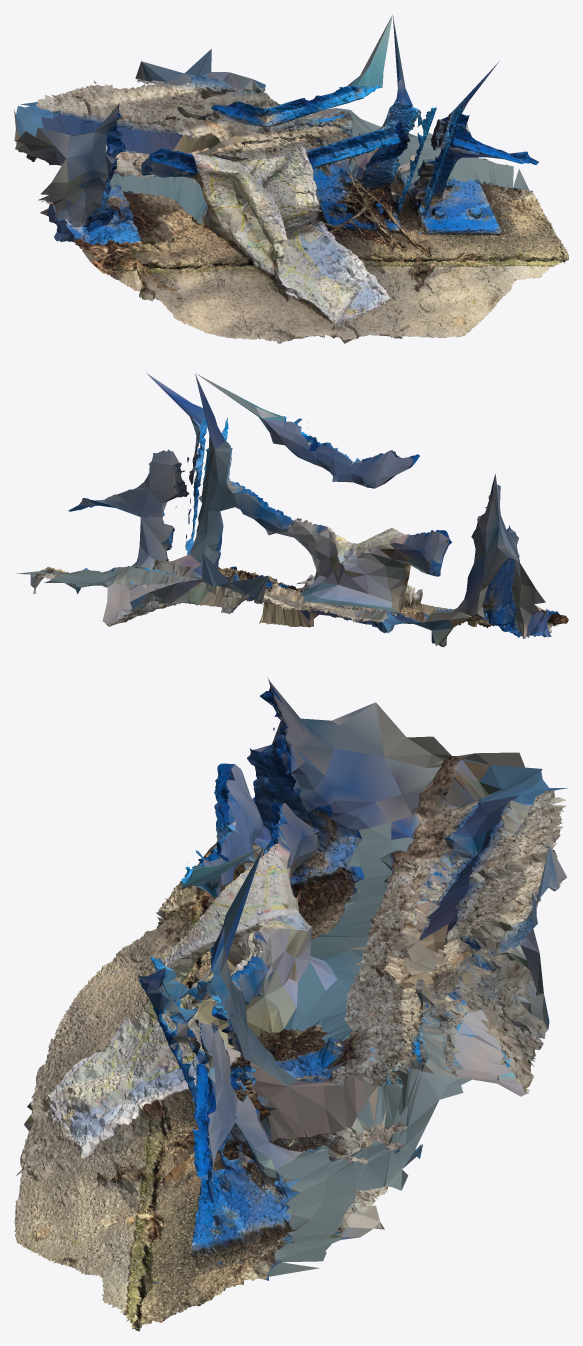
File: 03_mapa2.glb
3 views of the same model, one above another, from view 1: azimuth 30°, elevation 25°; view 2: azimuth 150°, elevation 25°; view 3: azimuth 270°, elevation 25° (orthographic). The views are drawn at different scales.
Parts seen in each view (by area): view 1: mapa2.002, mapa2.003, mapa2.001; view 2: mapa2.002, mapa2.003, mapa2.001; view 3: mapa2.001, mapa2.002, mapa2.003.
Boxes of the visible parts, x1,y1,x2,y2 form: mapa2.002: [14, 81, 328, 343]; mapa2.003: [112, 15, 429, 343]; mapa2.001: [253, 16, 568, 337]; mapa2.002: [298, 473, 568, 647]; mapa2.003: [145, 374, 427, 627]; mapa2.001: [15, 373, 271, 626]; mapa2.001: [14, 847, 549, 1331]; mapa2.002: [31, 677, 567, 1099]; mapa2.003: [16, 763, 567, 1200].
Bounding box in the file's own units: 38.54 × 20.1 × 25.07.
Materials: 1 (1 with a texture image).
